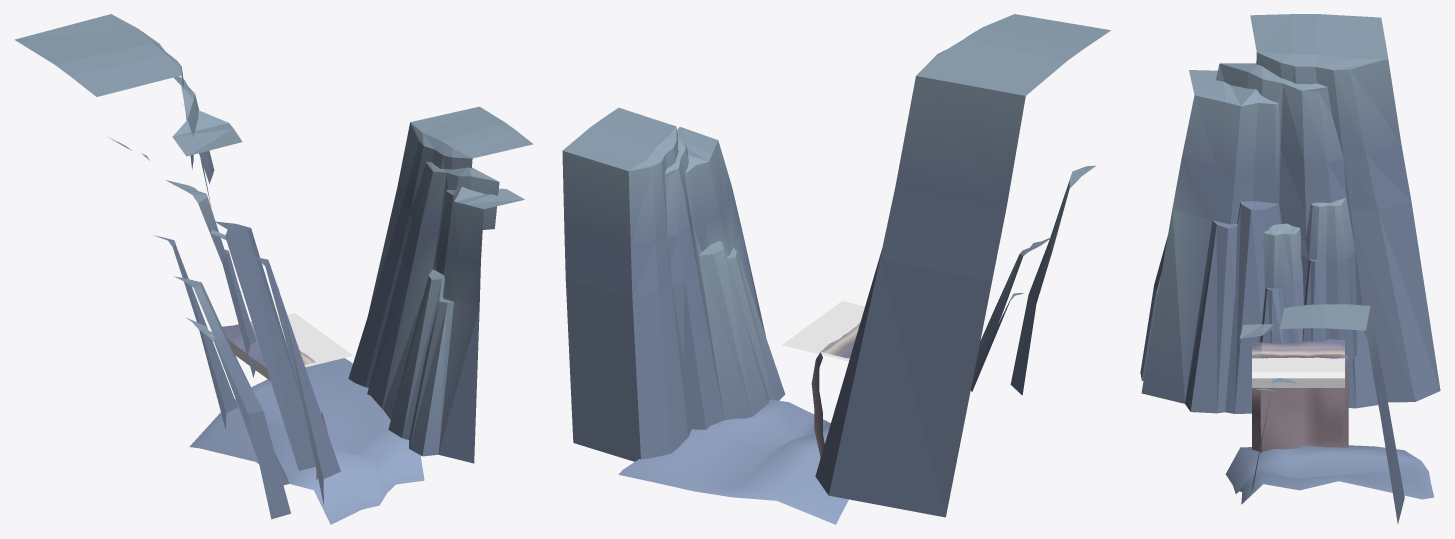
The model's file is Arctic_Narrows_Right_Straight_Short_A.glb.
The picture shows the model from 3 angles, left to right: view 1: azimuth 30°, elevation 25°; view 2: azimuth 150°, elevation 25°; view 3: azimuth 270°, elevation 25°; orthographic projection. The views are drawn at different scales.
Parts seen in each view (by area): view 1: Arctic_Narrows_Left_IceWall_A01, Arctic_Narrows_Right_IceWall_A02 (2), Arctic_Narrows_Right_Straight_Short_A, Arctic_Narrows_Right_IceWall_A02_Left, Arctic_Narrows_Right_IceWall_A02_Mid, inv_fill, Arctic_Narrows_Right_IceWall_A02_Right; view 2: Arctic_Narrows_Right_IceWall_A02 (2), Arctic_Narrows_Left_IceWall_A01, Arctic_Narrows_Right_Straight_Short_A, Arctic_Narrows_Right_IceWall_A02_Left, inv_fill; view 3: Arctic_Narrows_Right_IceWall_A02 (2), Arctic_Narrows_Right_Straight_Short_A, Arctic_Narrows_Right_IceWall_A02_Mid, Arctic_Narrows_Left_IceWall_A01, inv_fill, Arctic_Narrows_Right_IceWall_A02_Right, Arctic_Narrows_Right_IceWall_A02_Left.
Part boxes in pixels (left/top/right/bottom): Arctic_Narrows_Left_IceWall_A01: left=348, top=106, right=533, bottom=463; Arctic_Narrows_Right_IceWall_A02 (2): left=14, top=14, right=340, bottom=504; Arctic_Narrows_Right_Straight_Short_A: left=189, top=321, right=424, bottom=524; Arctic_Narrows_Right_IceWall_A02_Left: left=174, top=276, right=290, bottom=519; Arctic_Narrows_Right_IceWall_A02_Mid: left=166, top=180, right=256, bottom=377; inv_fill: left=227, top=313, right=352, bottom=380; Arctic_Narrows_Right_IceWall_A02_Right: left=108, top=137, right=237, bottom=428; Arctic_Narrows_Right_IceWall_A02 (2): left=815, top=14, right=1110, bottom=517; Arctic_Narrows_Left_IceWall_A01: left=562, top=107, right=785, bottom=461; Arctic_Narrows_Right_Straight_Short_A: left=618, top=323, right=860, bottom=524; Arctic_Narrows_Right_IceWall_A02_Left: left=970, top=165, right=1095, bottom=395; inv_fill: left=782, top=301, right=864, bottom=361; Arctic_Narrows_Right_IceWall_A02 (2): left=1141, top=14, right=1440, bottom=413; Arctic_Narrows_Right_Straight_Short_A: left=1225, top=339, right=1434, bottom=504; Arctic_Narrows_Right_IceWall_A02_Mid: left=1257, top=198, right=1357, bottom=359; Arctic_Narrows_Left_IceWall_A01: left=1239, top=304, right=1404, bottom=524; inv_fill: left=1252, top=357, right=1344, bottom=387; Arctic_Narrows_Right_IceWall_A02_Right: left=1348, top=330, right=1378, bottom=408; Arctic_Narrows_Right_IceWall_A02_Left: left=1140, top=235, right=1167, bottom=380.
Size of the model in its own units: 22.58 by 22.33 by 16.19.
